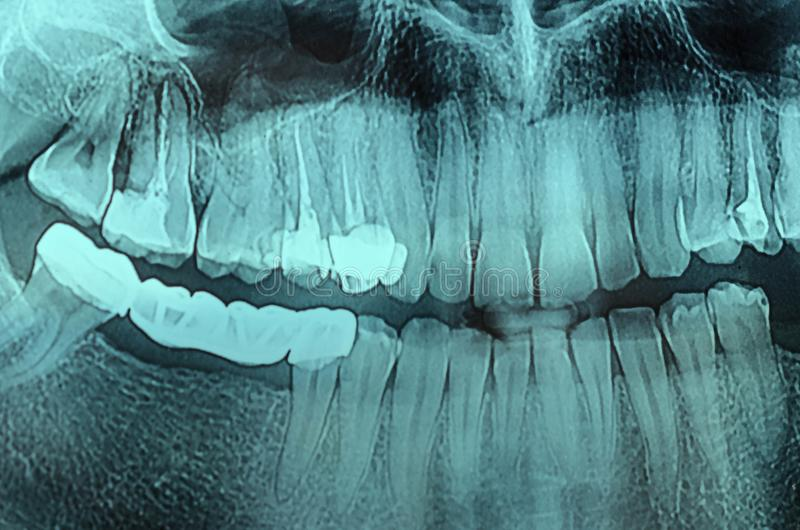canine: (606, 291, 687, 511), (370, 92, 437, 311), (626, 87, 698, 286), (391, 304, 459, 507)
incisor: (525, 105, 607, 324), (465, 100, 543, 317), (576, 99, 649, 299), (424, 88, 484, 307), (563, 311, 622, 496), (440, 315, 495, 504), (526, 309, 584, 488), (487, 325, 536, 497)
molar: (20, 47, 145, 231), (99, 53, 202, 275), (189, 78, 285, 291)
premolar: (314, 87, 410, 301), (654, 281, 742, 504), (703, 270, 798, 472), (329, 294, 404, 522), (670, 83, 751, 268), (718, 72, 792, 261), (272, 88, 339, 295)
